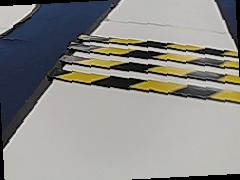bump: (51, 31, 240, 106)
